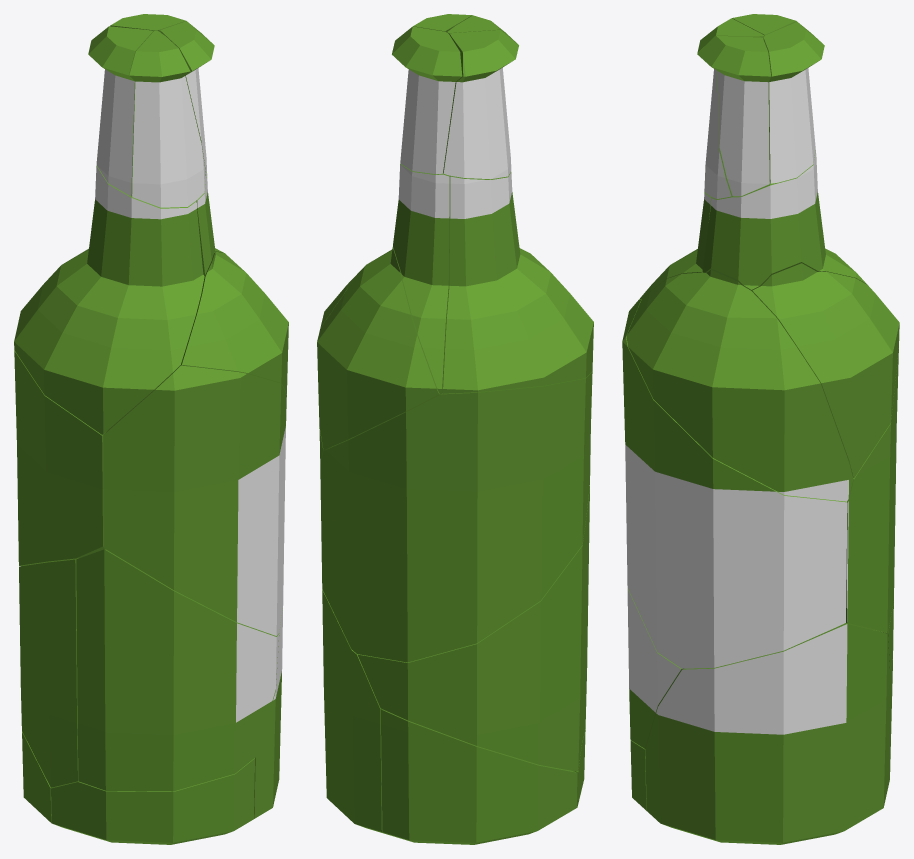
File: LowPolyBottleShattered2.glb
3 views of the same model, side by side, from view 1: azimuth 30°, elevation 25°; view 2: azimuth 150°, elevation 25°; view 3: azimuth 270°, elevation 25° (orthographic).
Parts seen in each view (by area): view 1: Cylinder.001_cell.005, Cylinder.001_cell.013, Cylinder.001_cell, Cylinder.001_cell.014, Cylinder.001_cell.006, Cylinder.001_cell.002, Cylinder.001_cell.009, Cylinder.001_cell.012, Cylinder.001_cell.011, Cylinder.001_cell.010, Cylinder.001_cell.007, Cylinder.001_cell.003 (+2 smaller); view 2: Cylinder.001_cell.014, Cylinder.001_cell.006, Cylinder.001_cell, Cylinder.001_cell.003, Cylinder.001_cell.008, Cylinder.001_cell.010, Cylinder.001_cell.001, Cylinder.001_cell.011, Cylinder.001_cell.004, Cylinder.001_cell.013, Cylinder.001_cell.007, Cylinder.001_cell.009; view 3: Cylinder.001_cell.010, Cylinder.001_cell.005, Cylinder.001_cell.012, Cylinder.001_cell.008, Cylinder.001_cell.001, Cylinder.001_cell.014, Cylinder.001_cell.007, Cylinder.001_cell.004, Cylinder.001_cell.013, Cylinder.001_cell.009, Cylinder.001_cell, Cylinder.001_cell.002 (+1 smaller).
Part boxes in pixels (x1=…): Cylinder.001_cell.005: x1=103, y1=365, x2=286, y2=635; Cylinder.001_cell.013: x1=76, y1=549, x2=279, y2=791; Cylinder.001_cell: x1=14, y1=165, x2=204, y2=434; Cylinder.001_cell.014: x1=14, y1=350, x2=106, y2=566; Cylinder.001_cell.006: x1=19, y1=559, x2=78, y2=787; Cylinder.001_cell.002: x1=51, y1=758, x2=254, y2=844; Cylinder.001_cell.009: x1=129, y1=30, x2=205, y2=207; Cylinder.001_cell.012: x1=179, y1=251, x2=288, y2=393; Cylinder.001_cell.011: x1=88, y1=26, x2=153, y2=196; Cylinder.001_cell.010: x1=254, y1=608, x2=282, y2=818; Cylinder.001_cell.007: x1=160, y1=21, x2=214, y2=176; Cylinder.001_cell.003: x1=22, y1=731, x2=52, y2=822; Cylinder.001_cell.014: x1=320, y1=372, x2=592, y2=662; Cylinder.001_cell.006: x1=357, y1=520, x2=586, y2=771; Cylinder.001_cell: x1=443, y1=171, x2=593, y2=393; Cylinder.001_cell.003: x1=381, y1=709, x2=577, y2=844; Cylinder.001_cell.008: x1=317, y1=247, x2=439, y2=449; Cylinder.001_cell.010: x1=322, y1=589, x2=388, y2=834; Cylinder.001_cell.001: x1=393, y1=164, x2=450, y2=393; Cylinder.001_cell.011: x1=443, y1=30, x2=518, y2=179; Cylinder.001_cell.004: x1=392, y1=26, x2=462, y2=174; Cylinder.001_cell.013: x1=582, y1=486, x2=589, y2=741; Cylinder.001_cell.007: x1=413, y1=14, x2=472, y2=32; Cylinder.001_cell.009: x1=447, y1=15, x2=518, y2=44; Cylinder.001_cell.010: x1=645, y1=623, x2=889, y2=844; Cylinder.001_cell.005: x1=622, y1=299, x2=847, y2=668; Cylinder.001_cell.012: x1=626, y1=270, x2=853, y2=501; Cylinder.001_cell.008: x1=752, y1=263, x2=899, y2=477; Cylinder.001_cell.001: x1=702, y1=150, x2=867, y2=291; Cylinder.001_cell.014: x1=845, y1=348, x2=898, y2=632; Cylinder.001_cell.007: x1=697, y1=35, x2=771, y2=196; Cylinder.001_cell.004: x1=763, y1=22, x2=824, y2=183; Cylinder.001_cell.013: x1=627, y1=588, x2=683, y2=748; Cylinder.001_cell.009: x1=697, y1=18, x2=764, y2=198; Cylinder.001_cell: x1=639, y1=192, x2=845, y2=299; Cylinder.001_cell.002: x1=630, y1=740, x2=646, y2=810.
Bounding box in the file's own units: 0.6861 × 2.1 × 0.6907.
